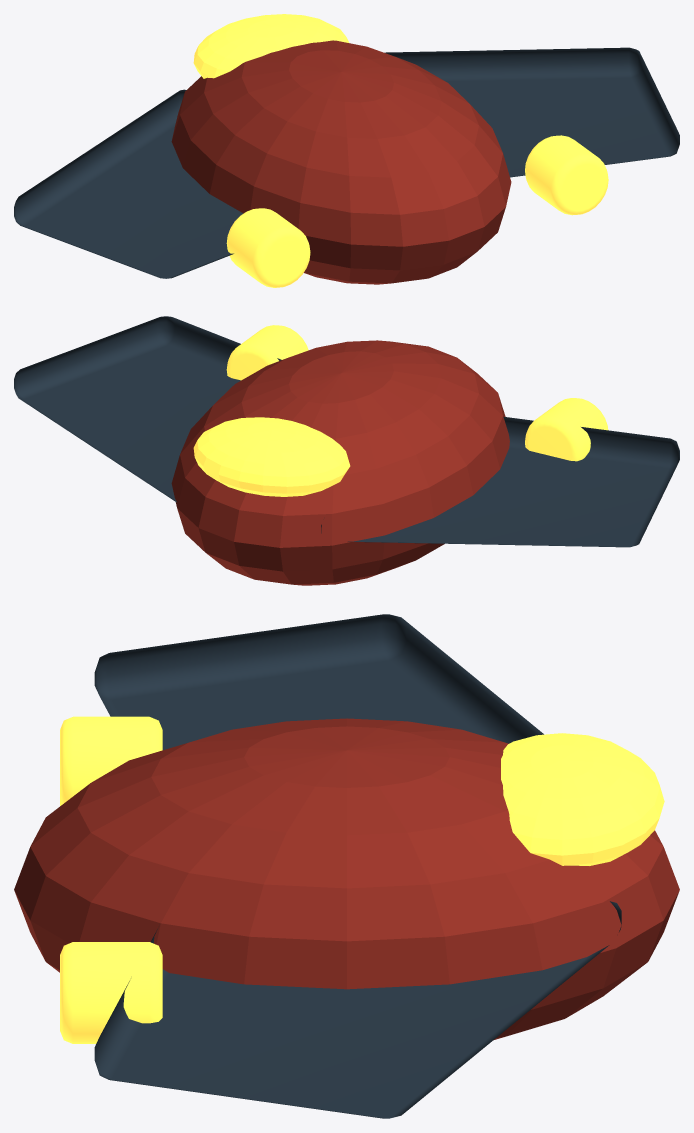
The model's file is Drone.fbx.
The picture shows the model from 3 angles, top to bottom: view 1: azimuth 30°, elevation 25°; view 2: azimuth 150°, elevation 25°; view 3: azimuth 270°, elevation 25°; orthographic projection. The views are drawn at different scales.
Visible parts, largest first — view 1: Armored lens, Blade, Blade.001, Target sensor, Thruster.001, Thruster; view 2: Armored lens, Blade.001, Blade, Target sensor, Thruster, Thruster.001; view 3: Armored lens, Blade.001, Blade, Target sensor, Thruster.001, Thruster.
Part boxes in pixels (x1,y1,x2,y2): Armored lens: (171, 40, 511, 284); Blade: (14, 89, 243, 278); Blade.001: (384, 47, 679, 177); Target sensor: (193, 14, 349, 78); Thruster.001: (525, 135, 608, 215); Thruster: (226, 208, 310, 287); Armored lens: (171, 340, 509, 585); Blade.001: (14, 316, 281, 502); Blade: (321, 416, 679, 547); Target sensor: (193, 417, 350, 496); Thruster: (525, 398, 608, 461); Thruster.001: (226, 325, 308, 380); Armored lens: (14, 718, 679, 1039); Blade.001: (94, 901, 621, 1118); Blade: (94, 614, 543, 749); Target sensor: (501, 733, 664, 865); Thruster.001: (60, 942, 162, 1043); Thruster: (60, 716, 162, 805).
Size of the model in its own units: 218 by 60 by 130.
